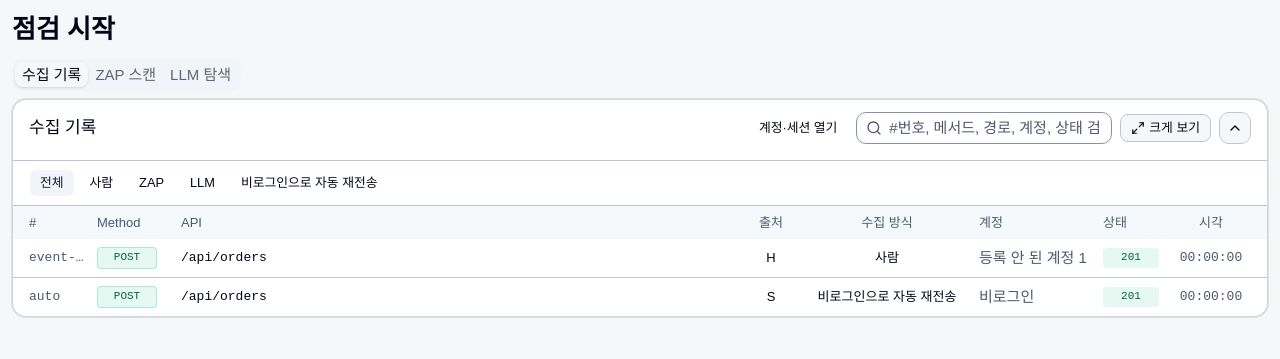
Scenario: unified inspection hub › starts with collected records and has no HUMAN execution controls
Click the tab "수집 기록" at (52, 75), box [15,62,88,87]
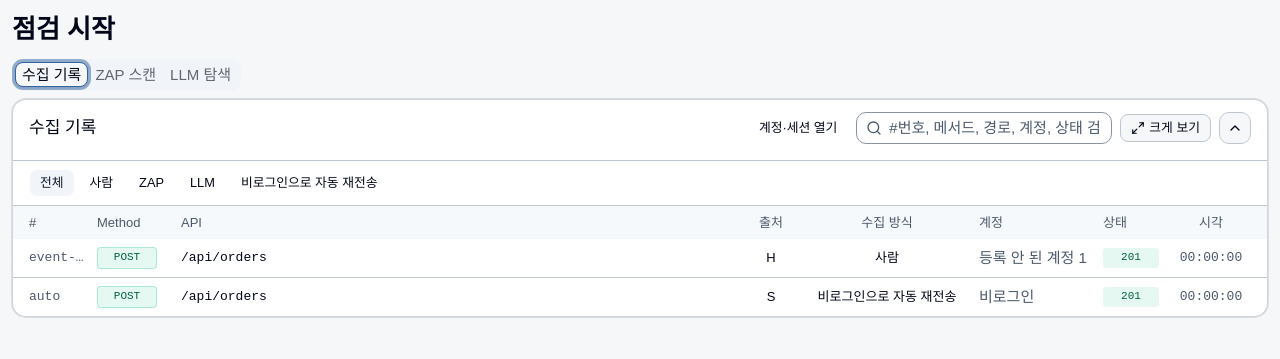
Expected: the text "출처" is shown, [759,215,783,230]
Click the button "ZAP" at (152, 183), box [128,169,175,197]
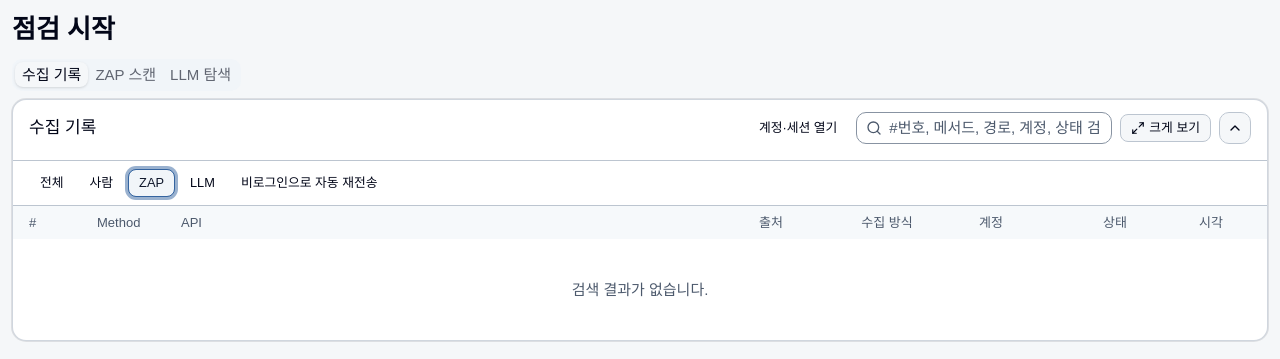
Expected: no the button "event-human-1 POST /api/orders H 사람 등록 안 된 계정 1 201 00:00:00" are shown
